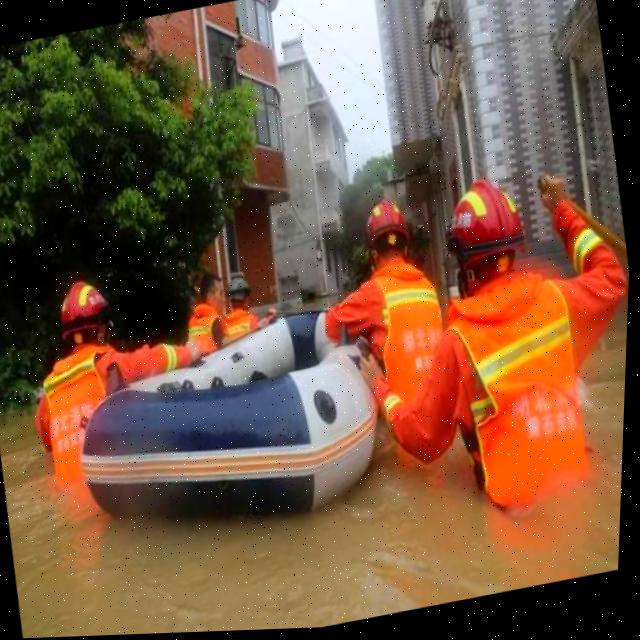civilian: (159, 246, 238, 363), (218, 269, 278, 350)
rescuer: (321, 131, 634, 551), (301, 179, 487, 511), (0, 247, 230, 503)
